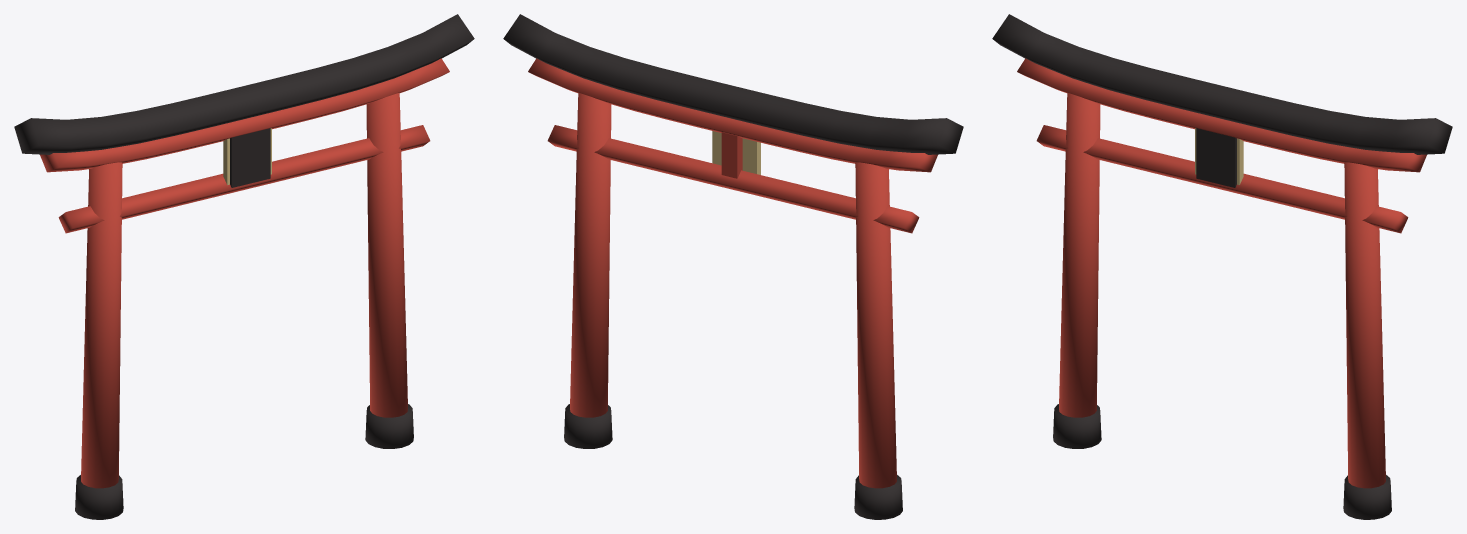
File: torii.glb
3 views of the same model, side by side, from view 1: azimuth 30°, elevation 25°; view 2: azimuth 150°, elevation 25°; view 3: azimuth 330°, elevation 25° (orthographic).
Parts seen in each view (by area): view 1: Torii; view 2: Torii; view 3: Torii.
Boxes of the visible parts, bbox=[...] form: Torii: bbox=[14, 14, 474, 519]; Torii: bbox=[503, 14, 963, 519]; Torii: bbox=[992, 14, 1452, 519].
Bounding box in the file's own units: 7.96 × 6.99 × 0.7778.
